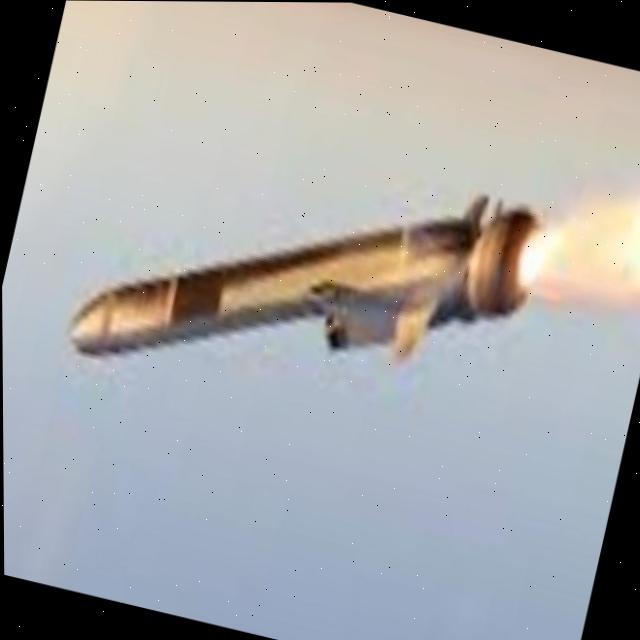missile: (53, 82, 544, 452)
